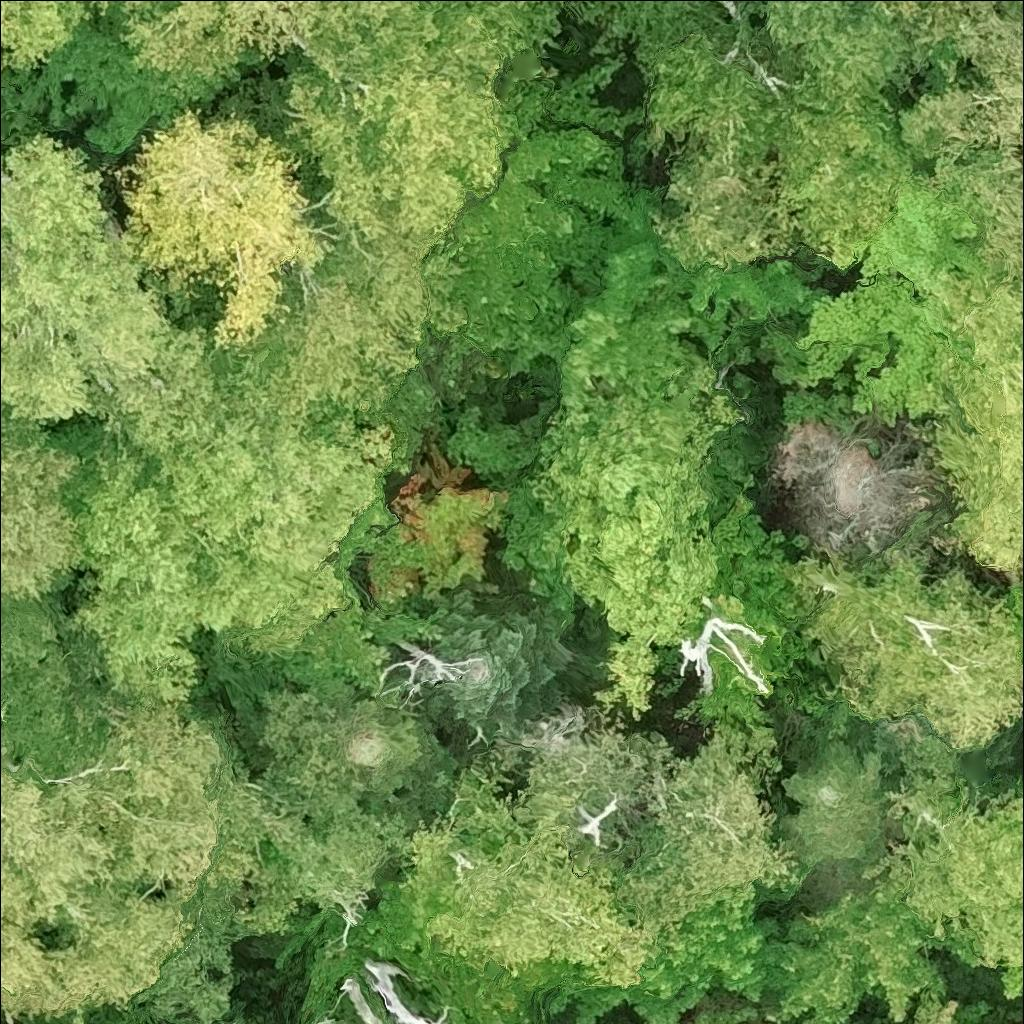crown: (146, 334, 397, 658), (0, 133, 223, 462), (257, 0, 563, 238), (0, 688, 220, 1009), (408, 757, 689, 993), (179, 684, 434, 935), (47, 415, 257, 707), (101, 107, 332, 350), (787, 549, 1023, 752), (446, 120, 626, 380), (617, 717, 808, 939), (261, 220, 471, 420), (642, 28, 799, 274), (867, 733, 1023, 974), (527, 360, 749, 523), (909, 276, 1023, 576), (903, 0, 1023, 279), (554, 237, 728, 410), (761, 275, 952, 429), (554, 479, 724, 643), (744, 884, 944, 1023), (418, 591, 595, 742), (777, 79, 932, 246), (367, 440, 511, 615), (91, 0, 320, 104), (849, 165, 998, 319), (293, 694, 466, 822), (272, 574, 434, 705), (510, 703, 680, 826), (629, 897, 780, 1023), (0, 408, 83, 601), (778, 727, 889, 870), (712, 474, 799, 641), (496, 468, 579, 633), (792, 0, 911, 104), (0, 0, 94, 72), (873, 0, 974, 66), (590, 633, 657, 720), (763, 0, 866, 55), (912, 974, 1023, 1023), (689, 1000, 762, 1023), (1007, 584, 1023, 656), (1001, 962, 1023, 1002), (213, 1014, 242, 1023), (645, 1021, 650, 1023)
